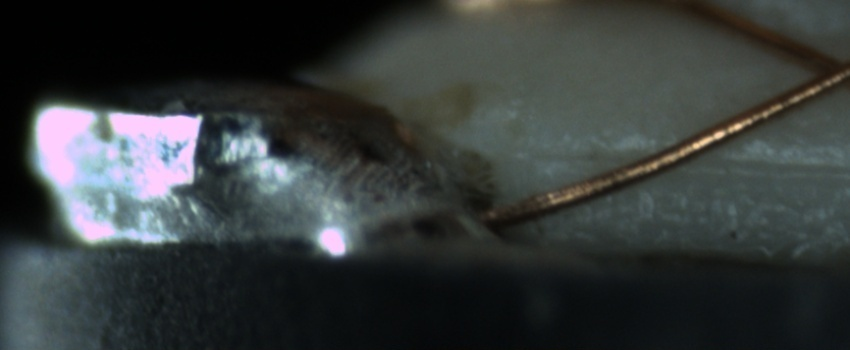CL: (777, 37, 849, 104)
DL: (540, 130, 850, 196)
